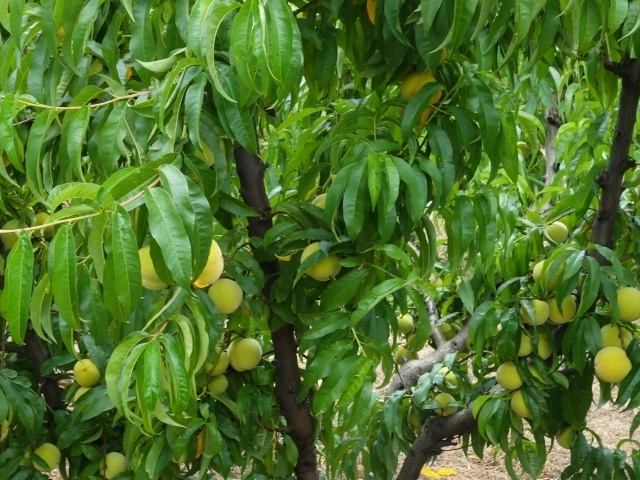peach: (185, 234, 227, 296), (295, 237, 344, 288), (397, 65, 445, 113), (131, 241, 172, 296), (590, 342, 632, 386), (206, 274, 247, 318), (225, 333, 266, 375), (596, 320, 636, 355), (543, 289, 581, 325), (201, 342, 235, 380), (29, 440, 65, 475), (70, 354, 102, 392), (518, 294, 552, 328), (95, 447, 131, 479), (611, 283, 640, 321), (492, 359, 525, 391), (1, 218, 33, 251), (509, 387, 540, 420), (530, 258, 563, 288), (542, 218, 571, 248), (511, 327, 540, 355), (429, 391, 457, 420), (391, 308, 418, 338), (528, 334, 556, 362), (554, 424, 581, 453), (68, 381, 97, 405), (205, 372, 231, 396)
